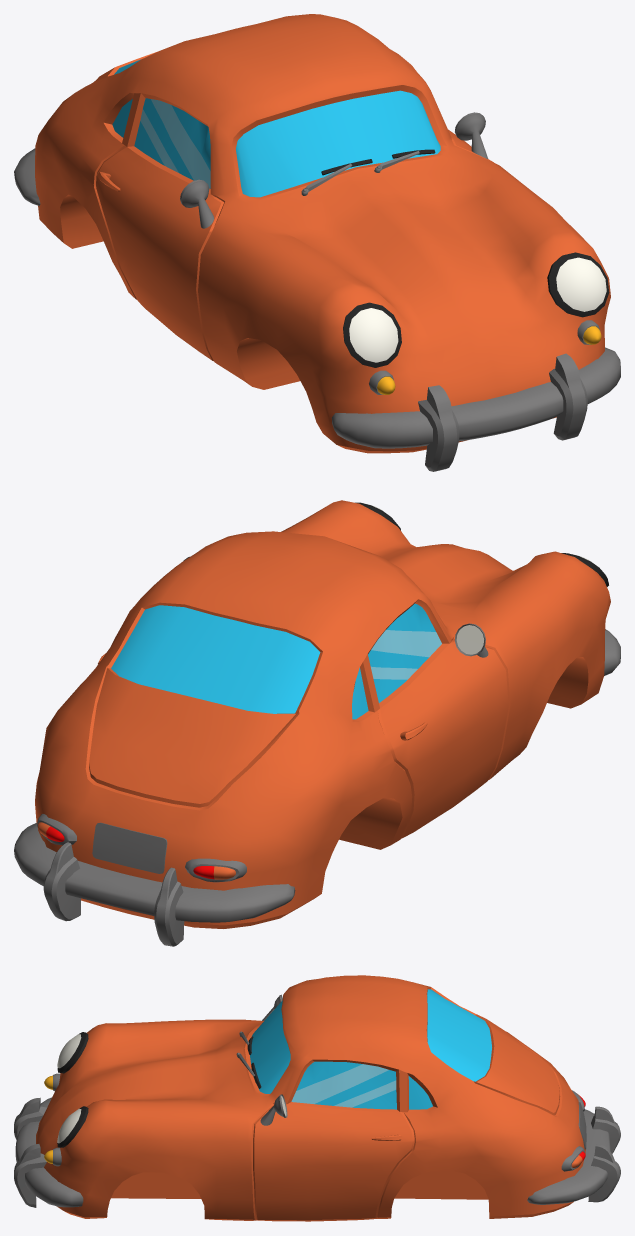
The model's file is body.glb.
The picture shows the model from 3 angles, top to bottom: view 1: azimuth 30°, elevation 25°; view 2: azimuth 150°, elevation 25°; view 3: azimuth 270°, elevation 25°; orthographic projection. The views are drawn at different scales.
Parts seen in each view (by area): view 1: body; view 2: body; view 3: body.
Boxes of the visible parts, x1,y1,x2,y2 form: body: (14,14,620,471); body: (14,500,620,946); body: (14,975,620,1221).
Bounding box in the file's own units: 1.76 × 1.34 × 3.98.
Materials: 1 (1 with a texture image).
